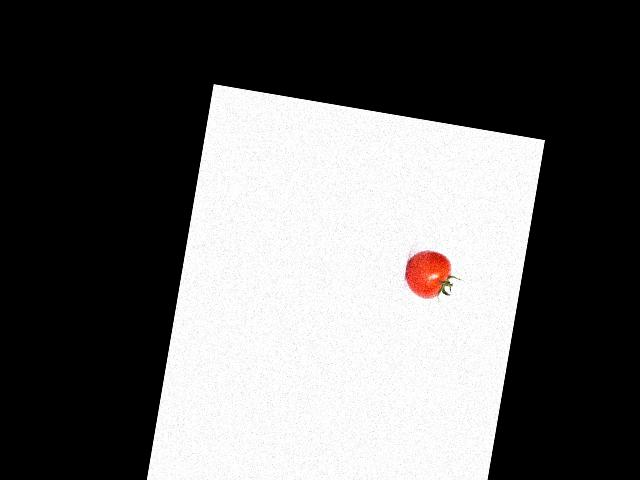tomato: (402, 246, 454, 301)
